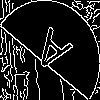A: (25, 25, 73, 83)
